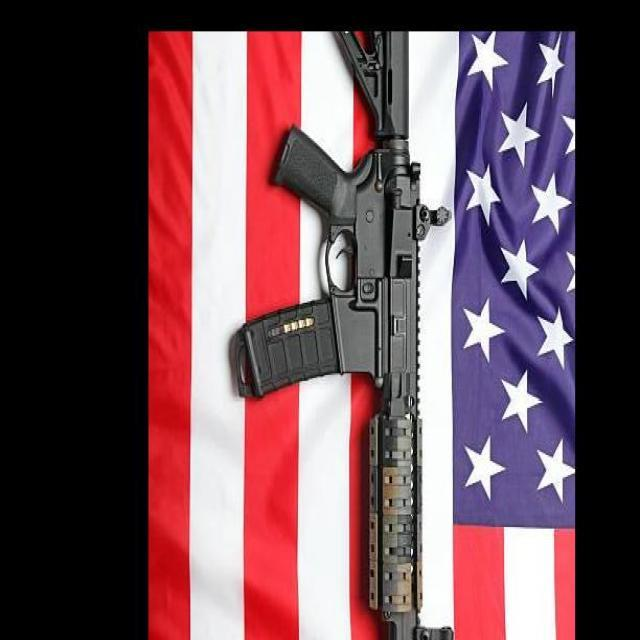weapon: (235, 31, 452, 640)
